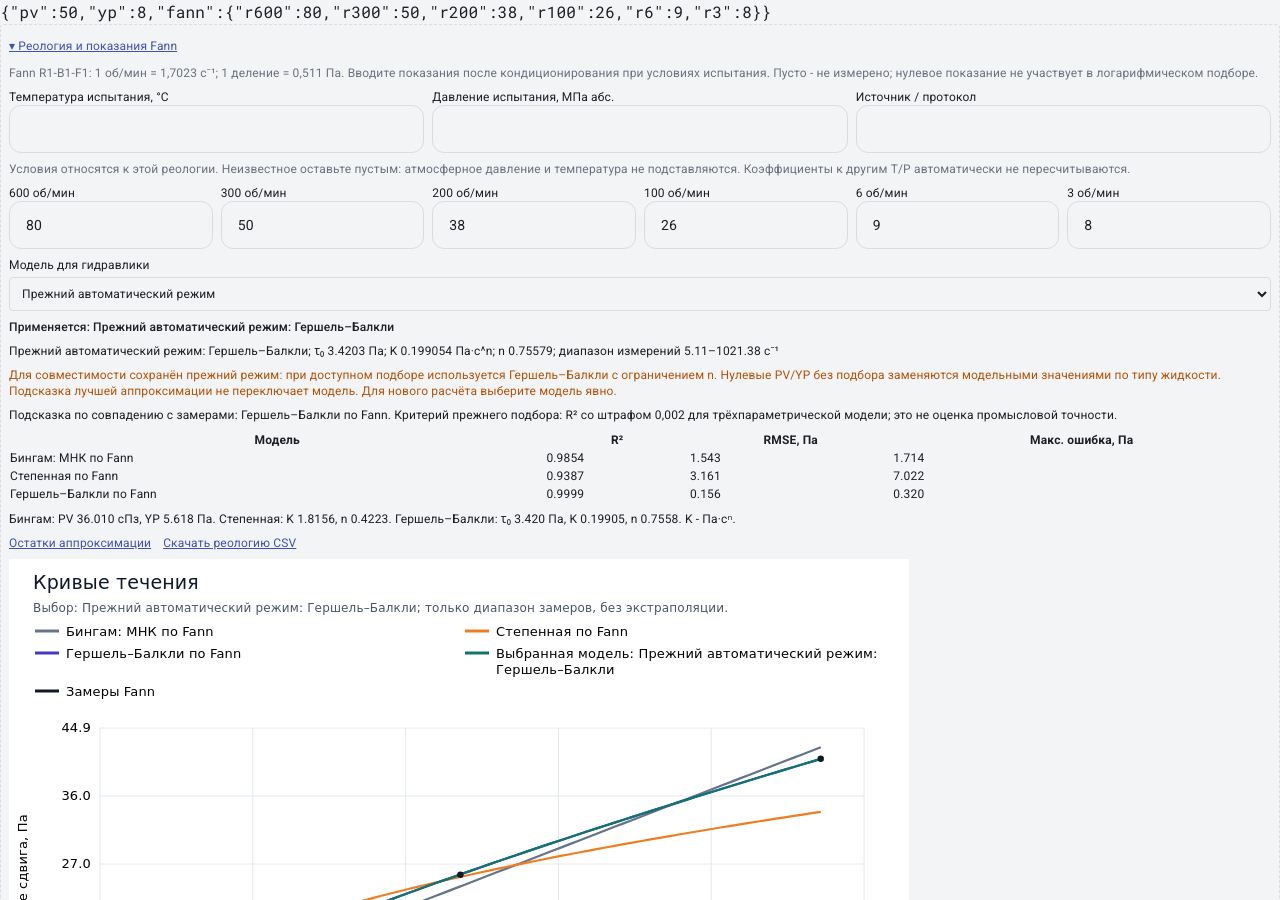
Test case: preserves blanks as missing measurements and warns instead of switching an invalid choice
The width and height of the screenshot is (1280, 900).
Later steps or results of the test are not shown.
Select "Гершель–Балкли по Fann" in the dropdown labelled "Модель для гидравлики": [640, 294] box [9,277,1271,311]
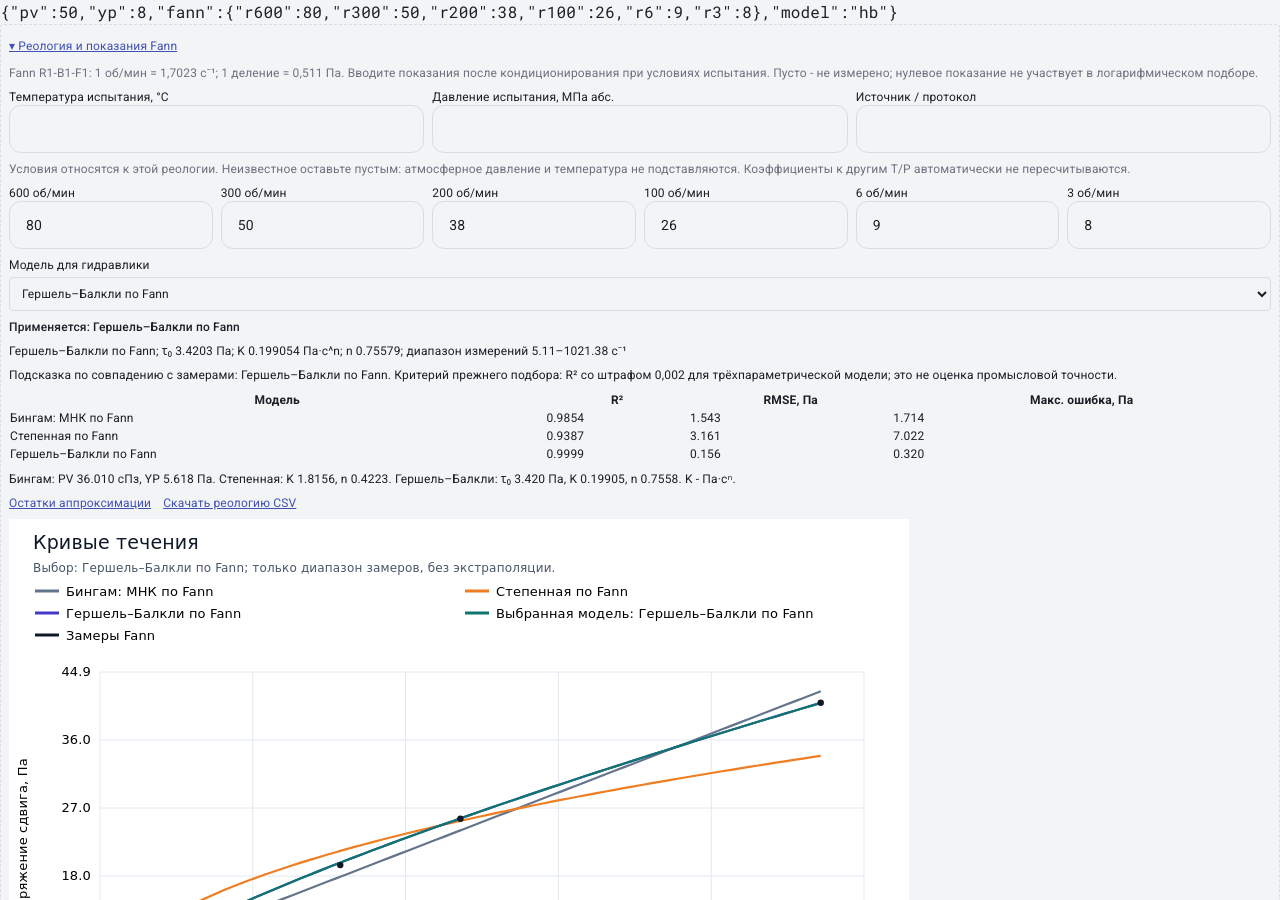
Clear the number field named "Fann 600": [111, 225] box [9,201,213,249]
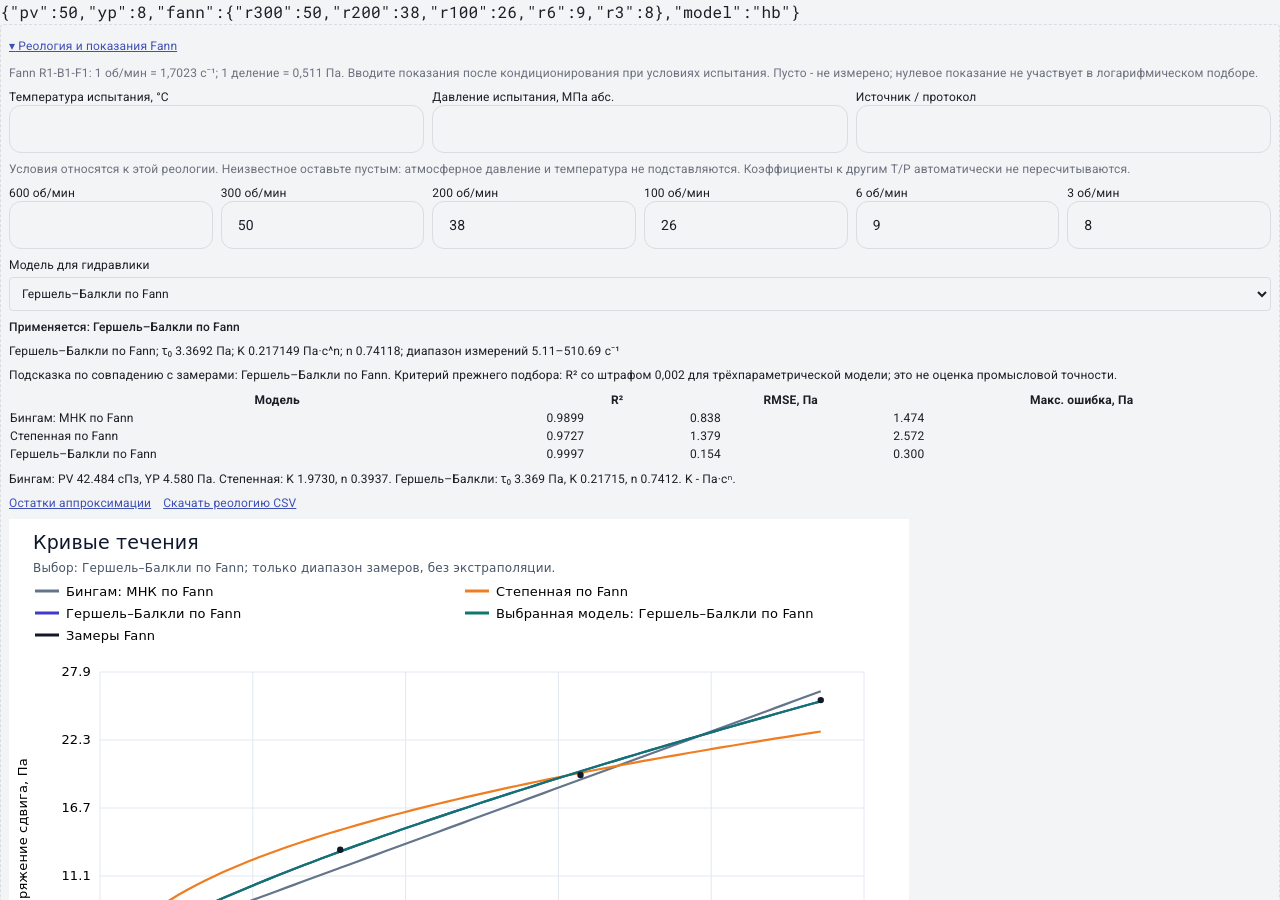
Clear the number field labelled "300 об/мин": [323, 225] box [221,201,424,249]
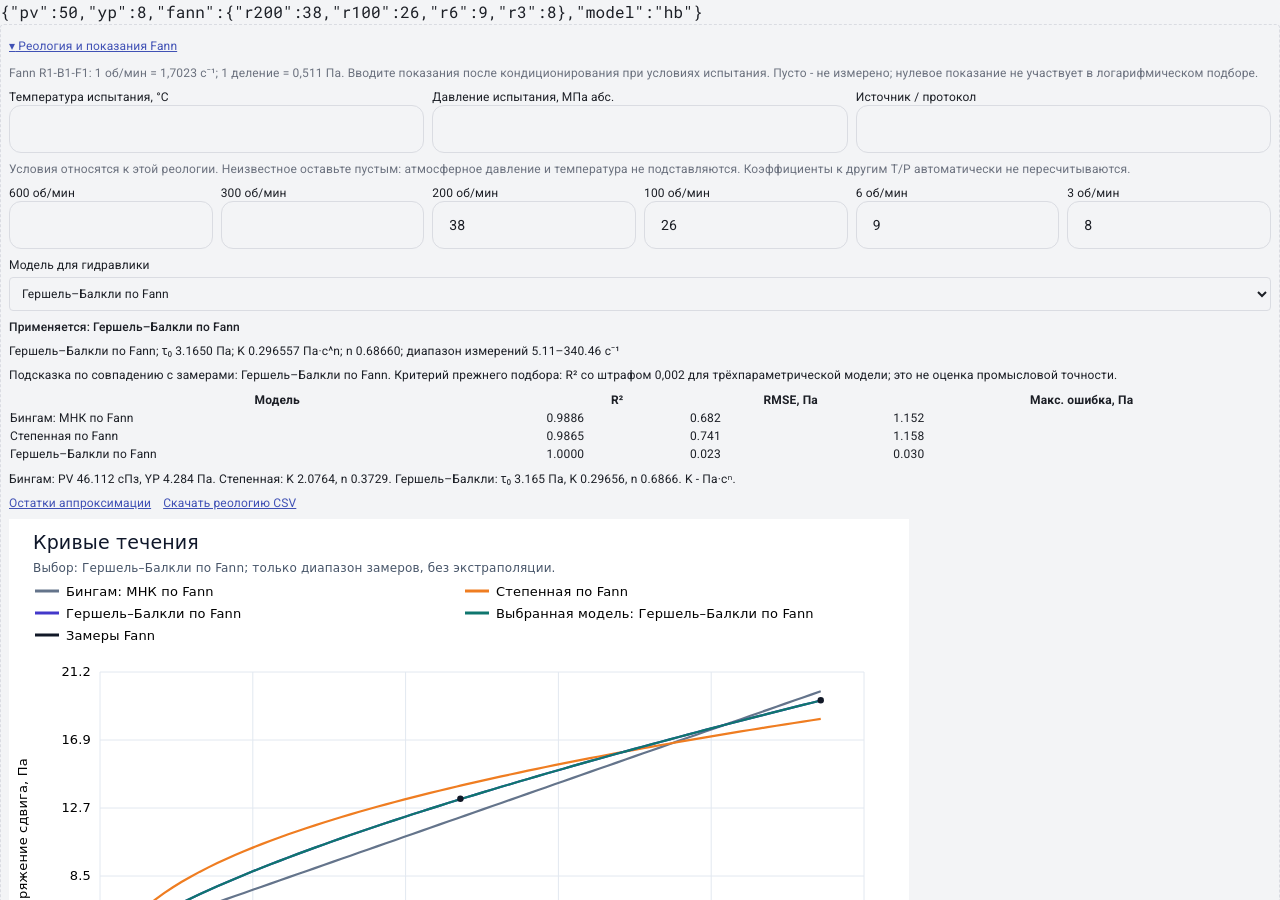
Clear the number field labelled "200 об/мин": [534, 225] box [432,201,636,249]
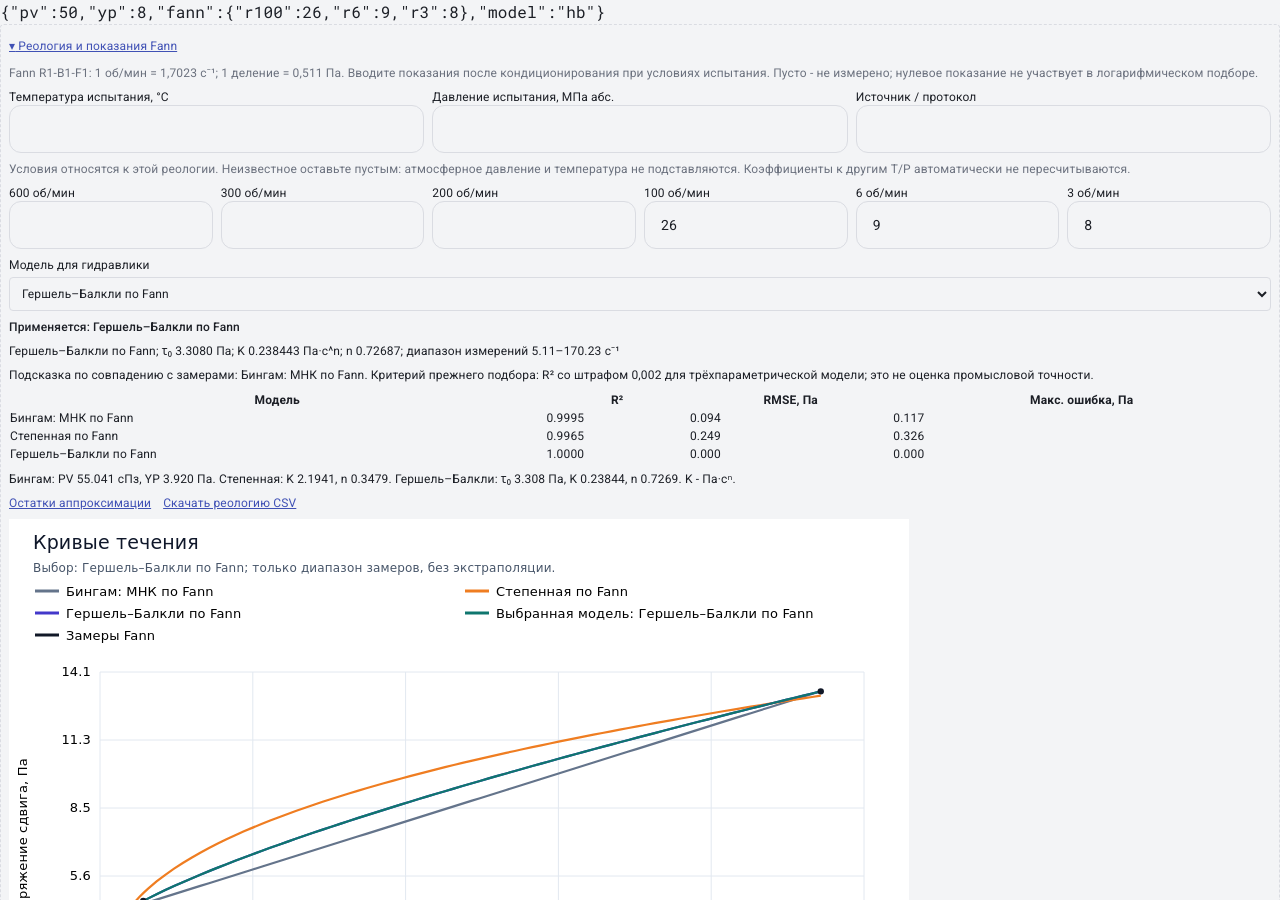
Clear the number field labelled "100 об/мин": [746, 225] box [644,201,848,249]
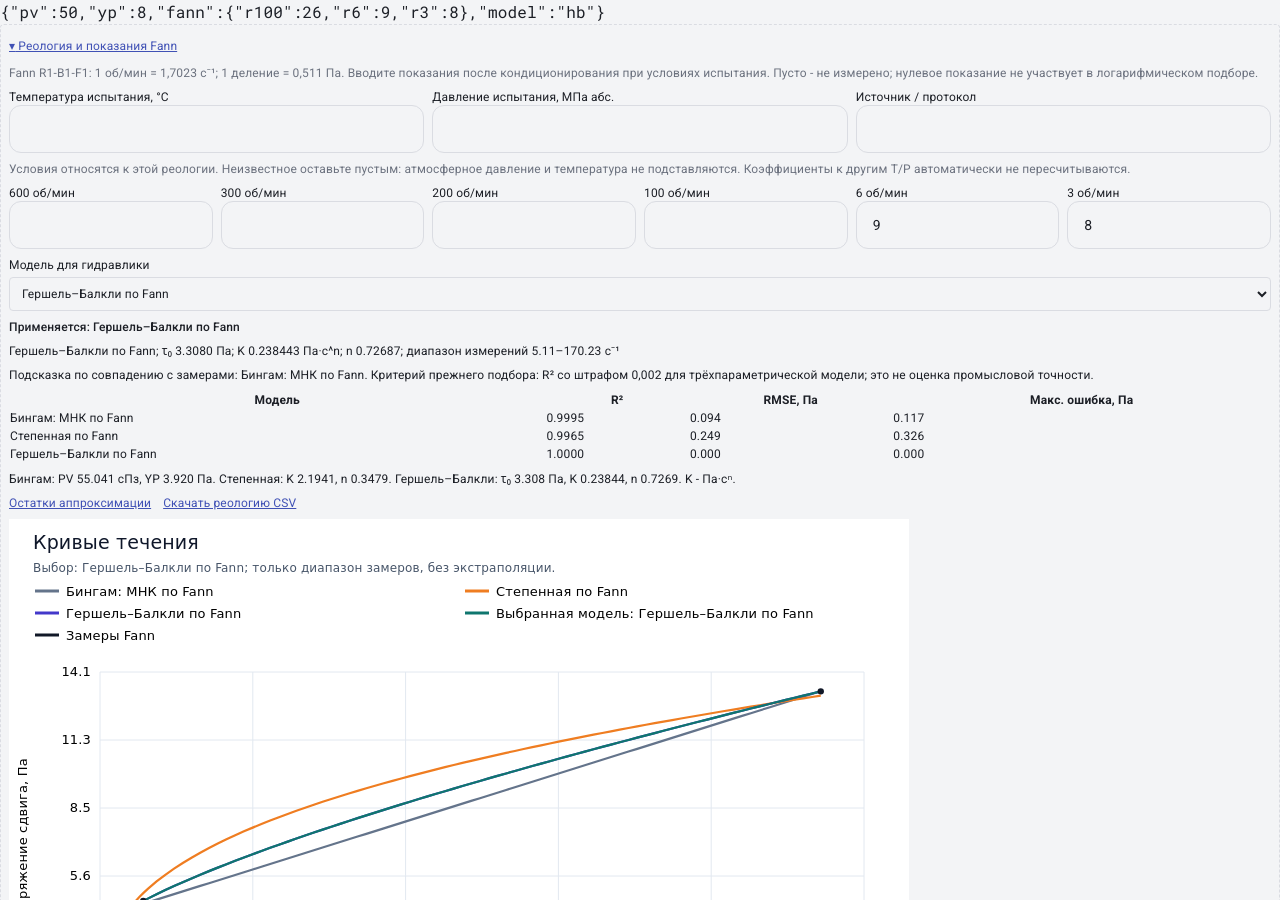
Leave the number field labelled "100 об/мин", box [644,201,848,249]
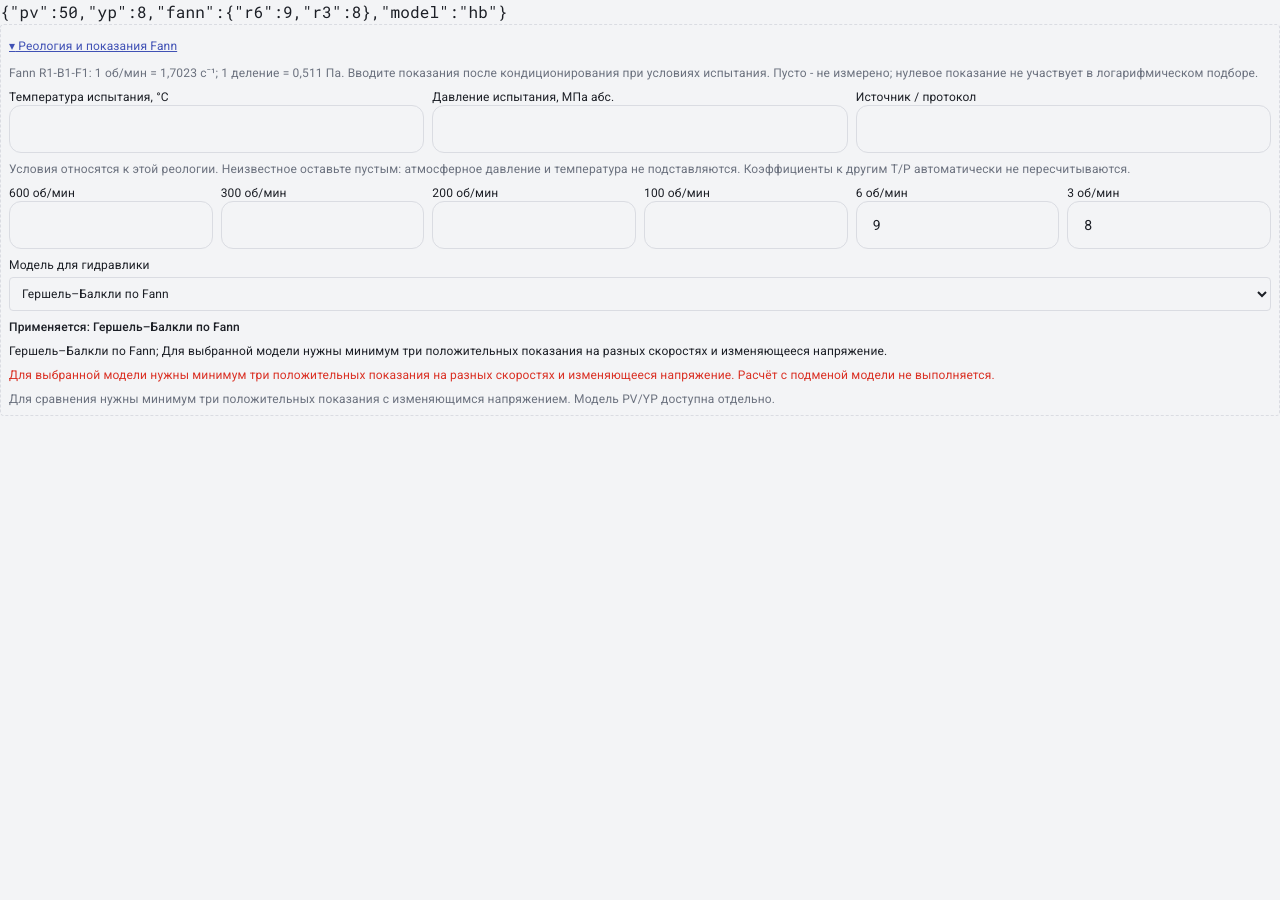
Now the text with test id "rheo" does not show "\"r600\"", box [0,1,508,22]
Now the text with test id "rheo" shows "\"model\":\"hb\"", box [0,1,508,22]
Now the message shows "минимум три", box [9,368,735,382]
